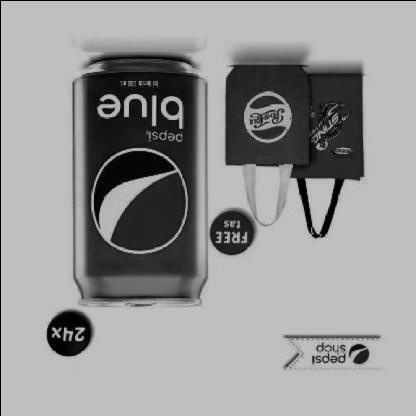alumunium_can: (71, 57, 209, 310)
